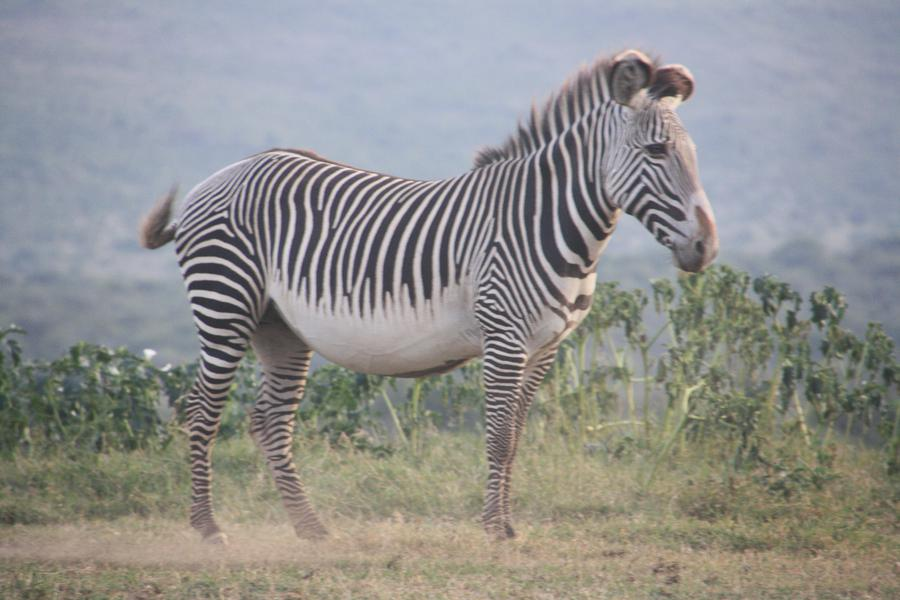zebra_grevys: (180, 144, 533, 343)
